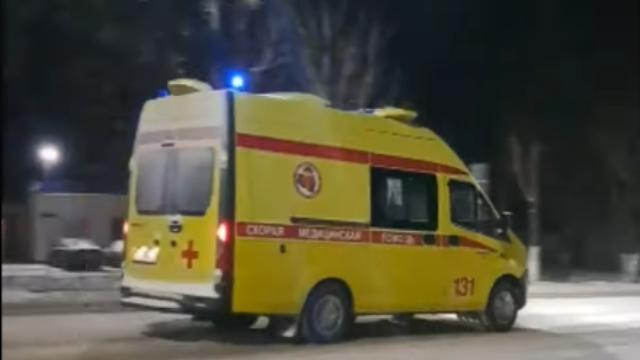intensive care unit: (121, 77, 531, 346)
